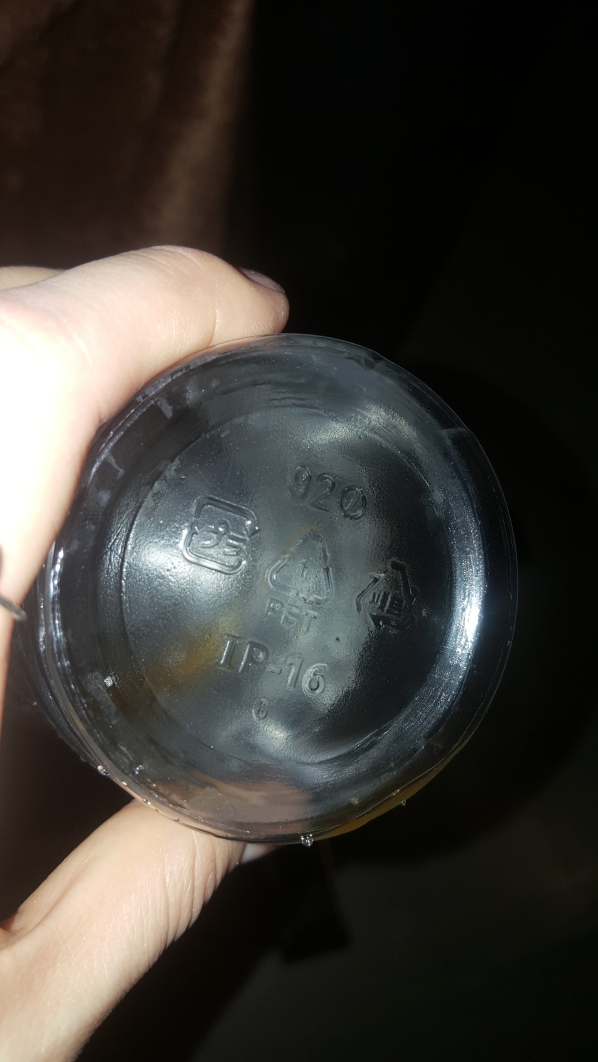recycle: (266, 510, 341, 636)
